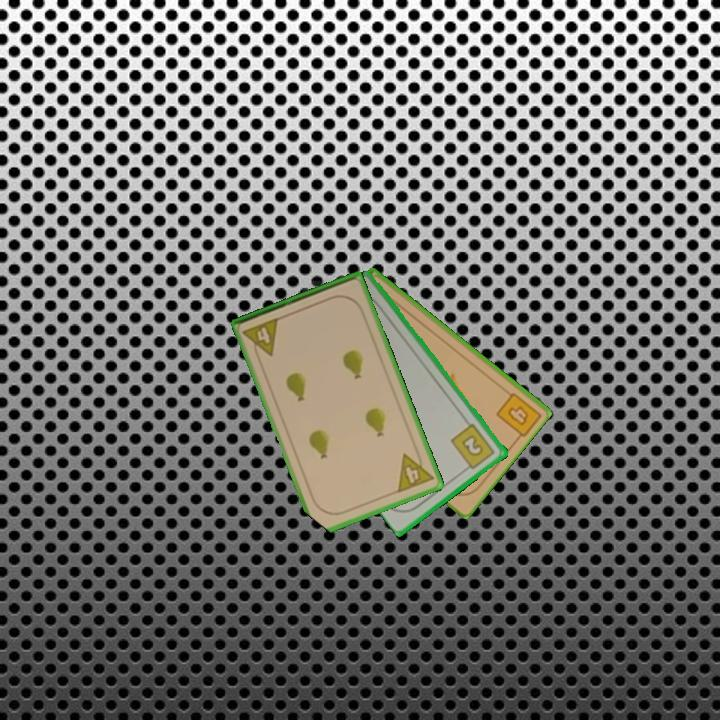2b: (448, 420, 498, 474)
4b: (504, 402, 532, 429)
4p: (239, 314, 282, 363), (394, 446, 436, 496)
